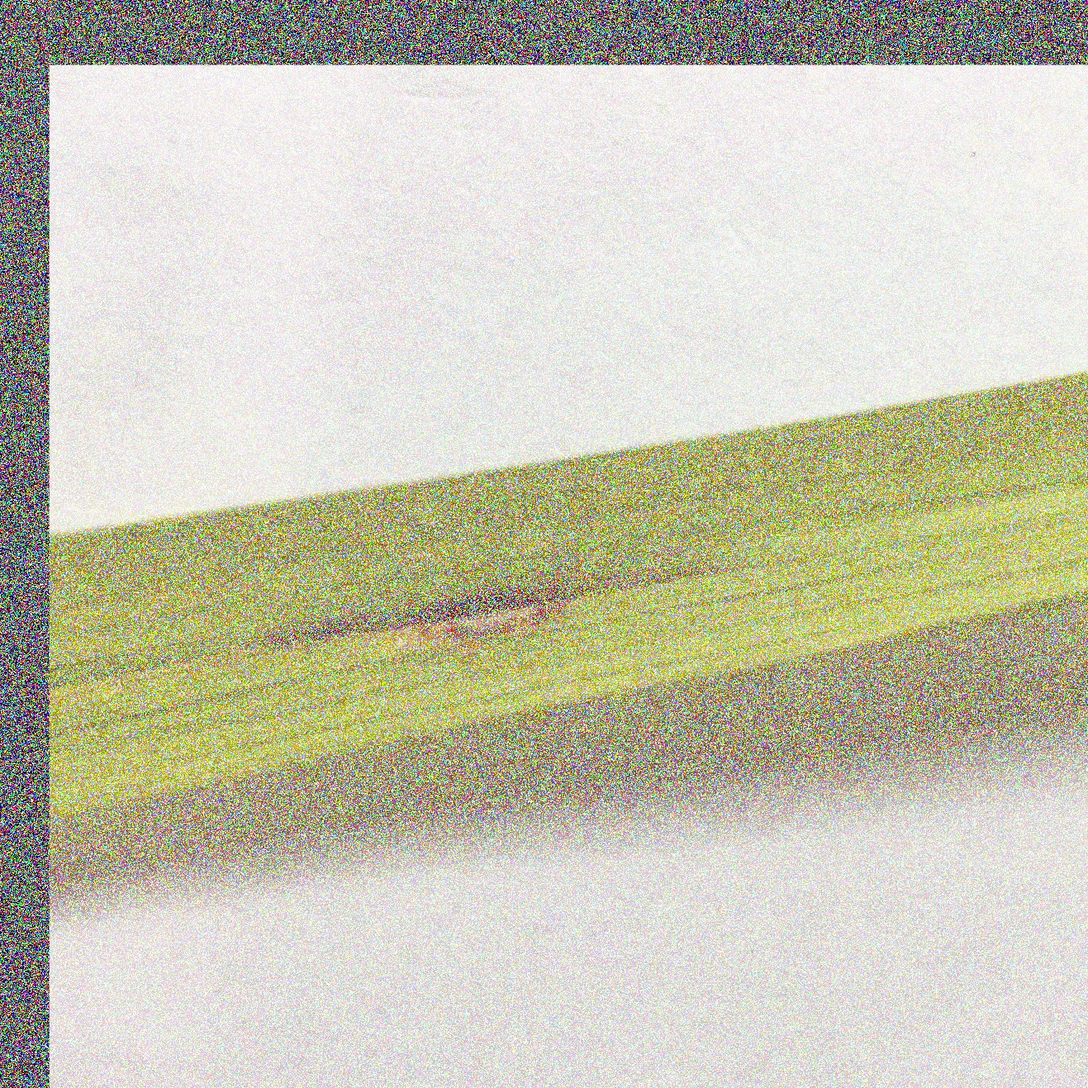Brown_Spot: (350, 477, 628, 690)
